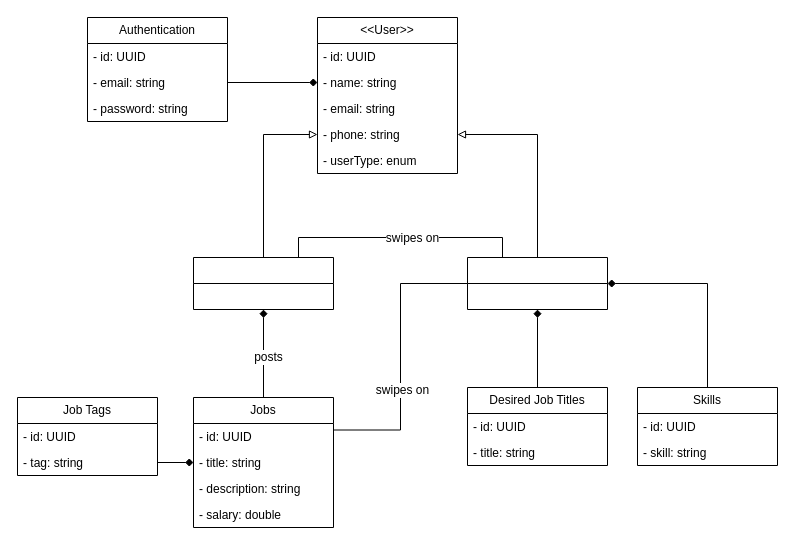
Some shapes in this 795 by 548 pixel diagram are drawn without their labels. Here are the shapes that lost their labels. From the top down, the centre of each, then its label:
(x=263, y=283): Business
(x=537, y=283): Job Seeker
